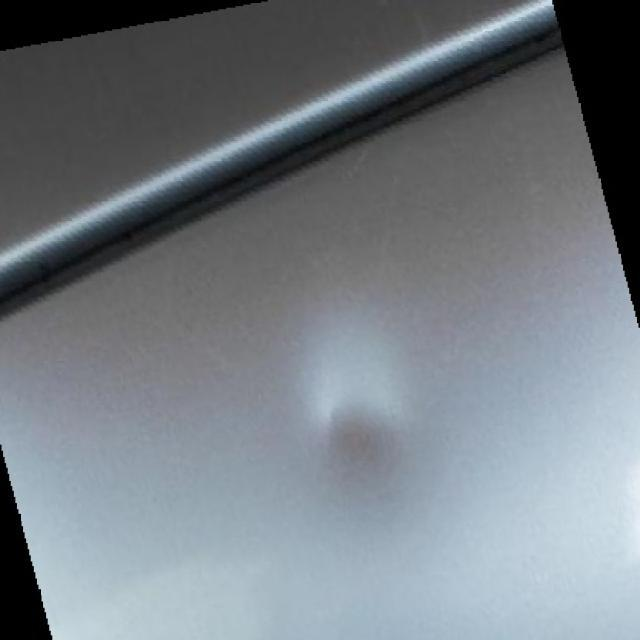dent: (304, 383, 421, 500)
